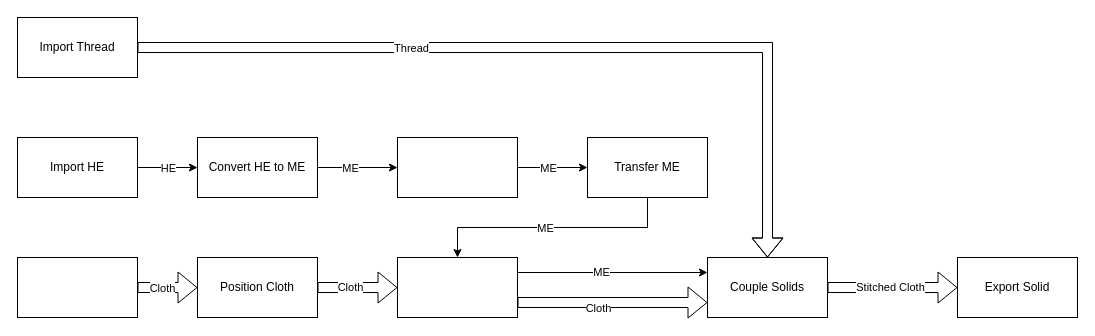
This 1095x336 diagram has some shape labels left out. The centre of each missing label's shape, as x and y in pixels:
"Change ME" belongs at [457,167].
"Guide Cloth" belongs at [457,287].
"Import Cloth" belongs at [77,287].
